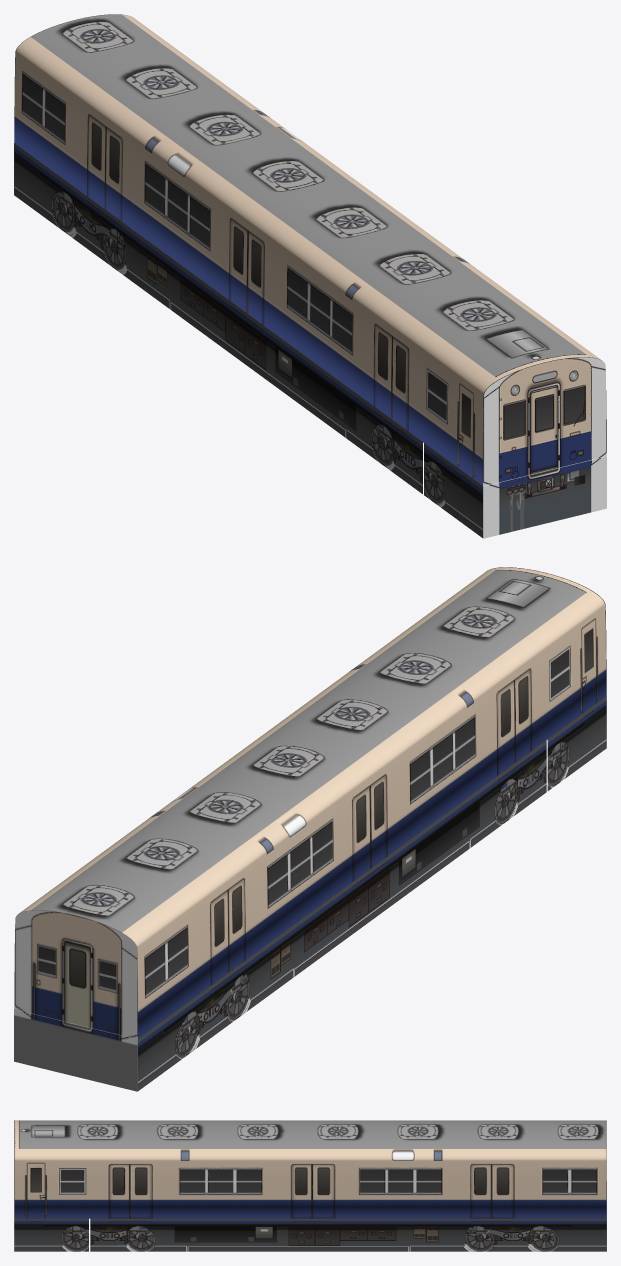
The model's file is car1.glb.
3 views of the same model, one above another, from view 1: azimuth 30°, elevation 25°; view 2: azimuth 150°, elevation 25°; view 3: azimuth 270°, elevation 25° (orthographic). The views are drawn at different scales.
Parts seen in each view (by area): view 1: hansin-5001-car1; view 2: hansin-5001-car1; view 3: hansin-5001-car1.
Boxes of the visible parts, x1,y1,x2,y2 form: hansin-5001-car1: (14, 14, 606, 538); hansin-5001-car1: (14, 567, 606, 1091); hansin-5001-car1: (14, 1120, 606, 1251).
Bounding box in the file's own units: 2.8 × 3.48 × 18.43.
Materials: 9 (8 with a texture image).
